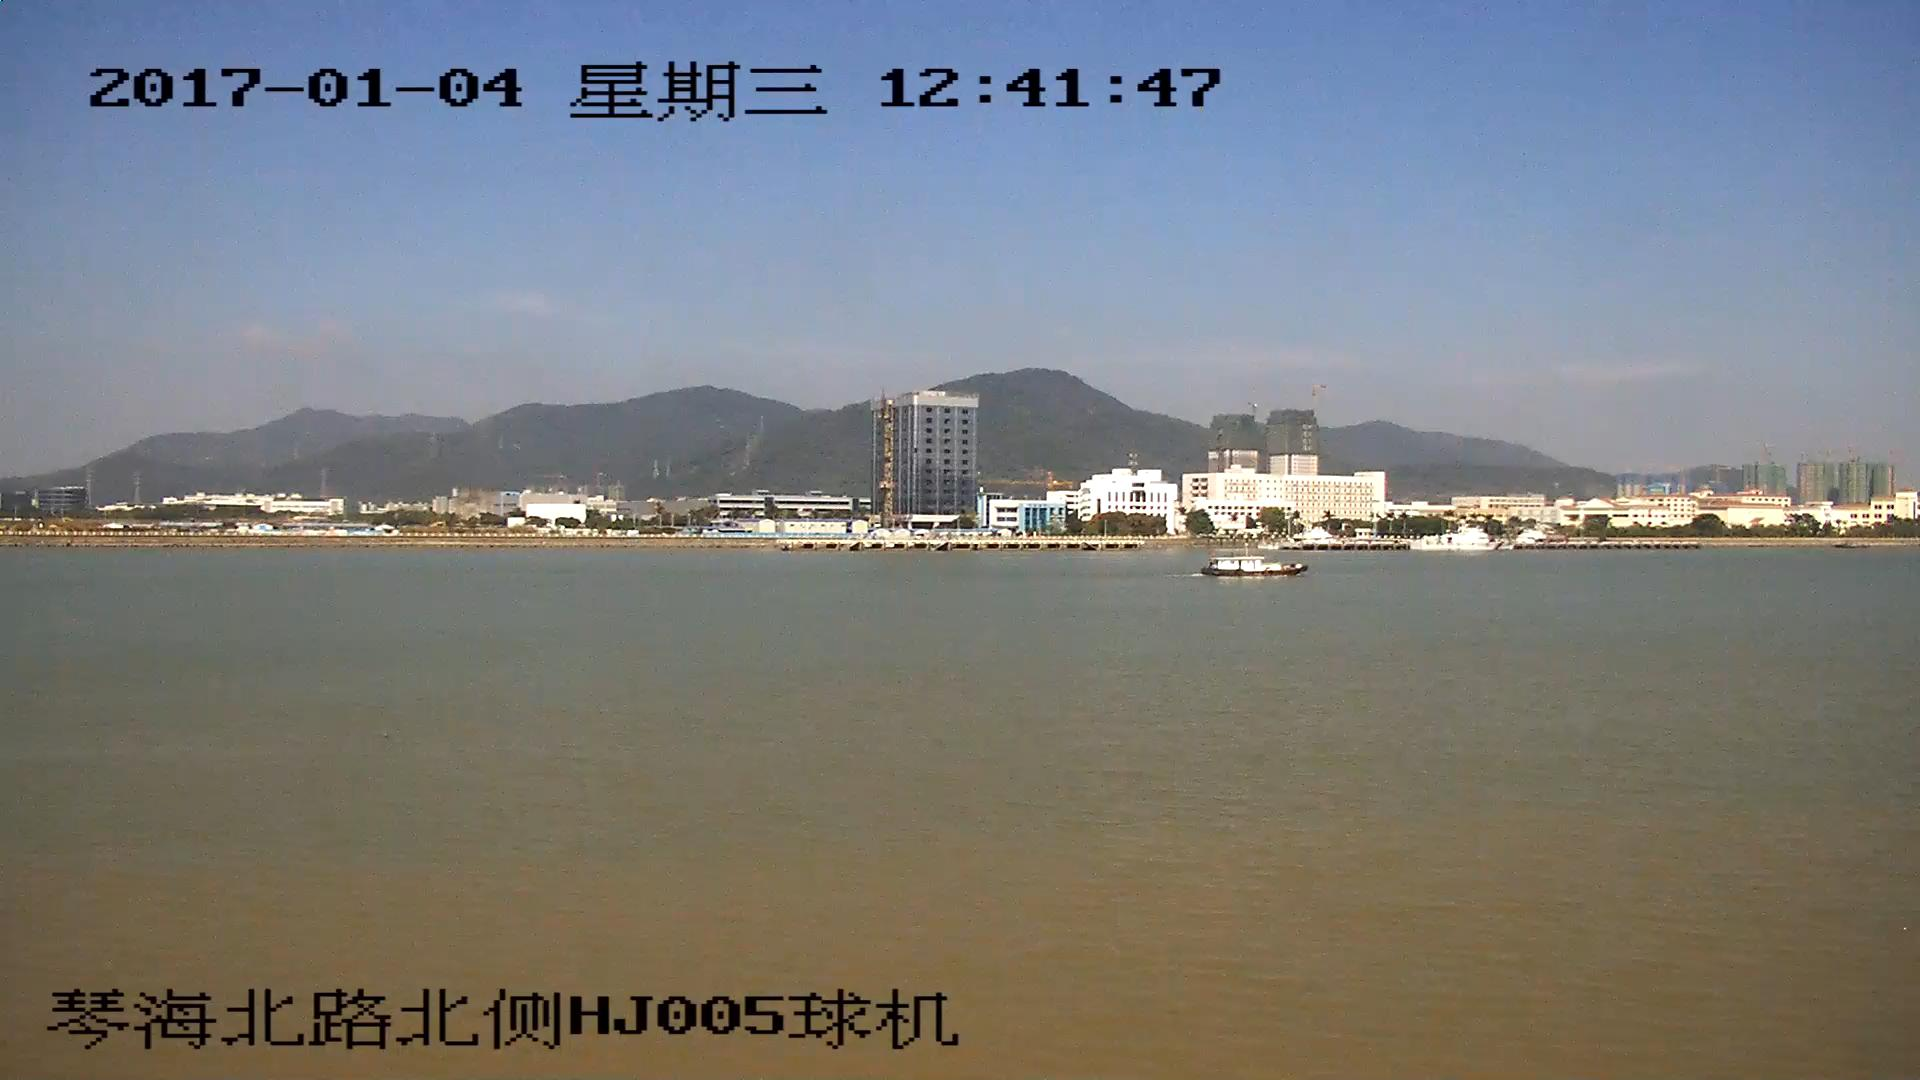fishing boat: (1203, 550, 1303, 578)
